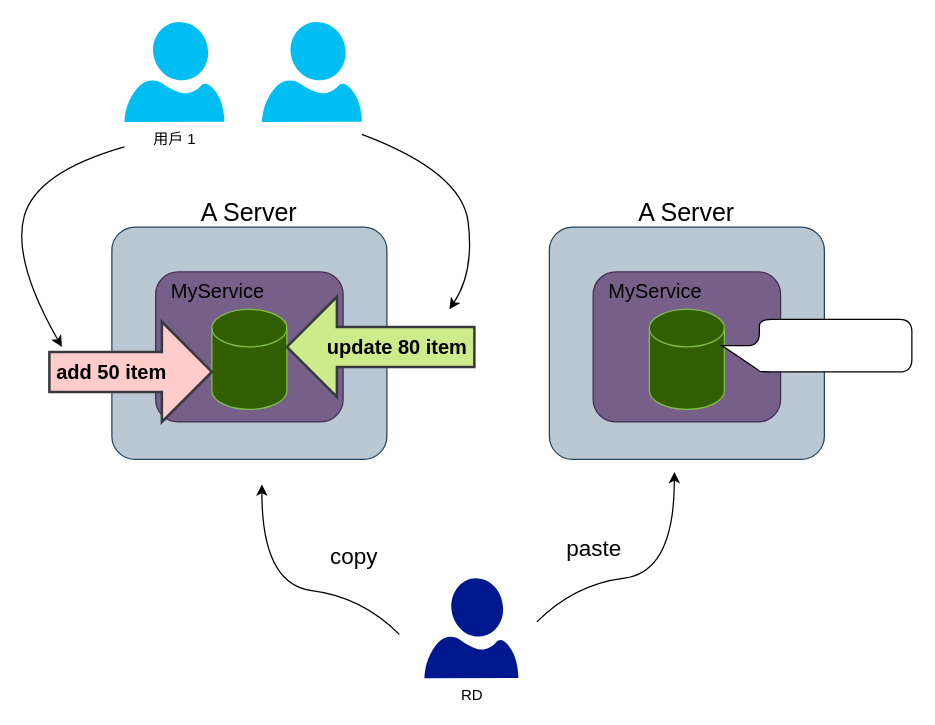
This 935x725 diagram has some shape labels left out. Here are the shapes that lost their labels. From the top down, the centre of each, then its label:
At (x=311, y=71): "用戶 2".
At (x=816, y=345): "130 changes".
